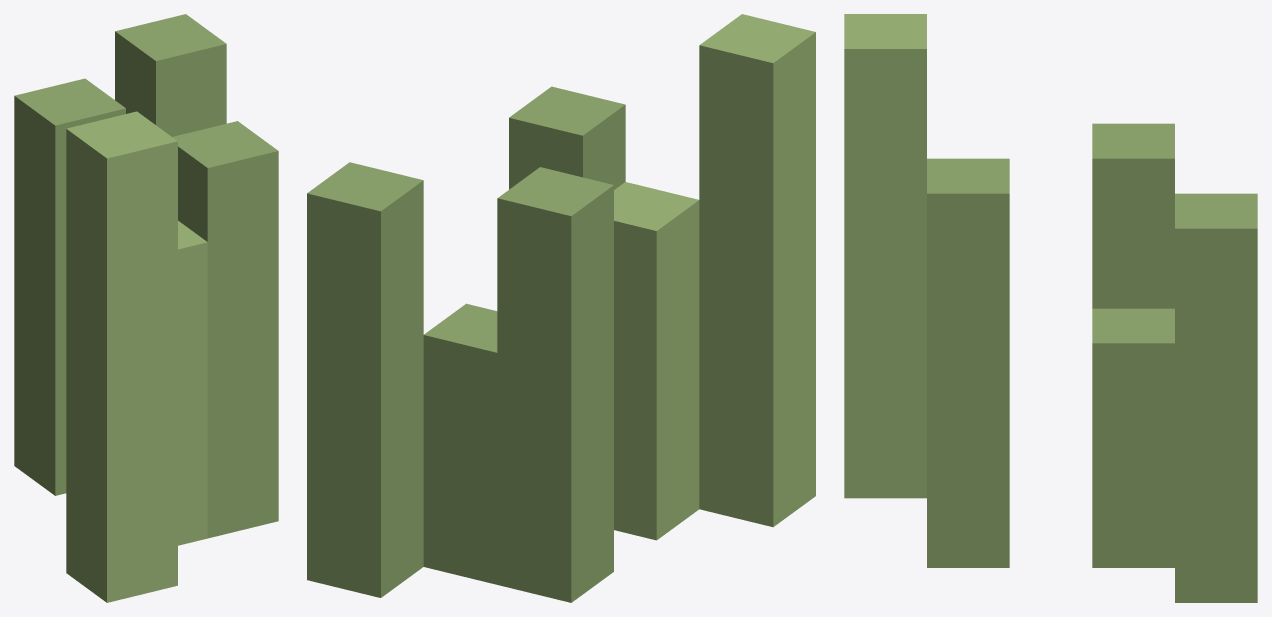
The model's file is hierba_alta_01.glb.
3 views of the same model, side by side, from view 1: azimuth 30°, elevation 25°; view 2: azimuth 150°, elevation 25°; view 3: azimuth 270°, elevation 25° (orthographic). The views are drawn at different scales.
Visible parts, largest first — view 1: hierba_alta_01; view 2: hierba_alta_01; view 3: hierba_alta_01.
Part boxes in pixels (<box>): hierba_alta_01: <box>14,14,278,602</box>; hierba_alta_01: <box>307,14,815,602</box>; hierba_alta_01: <box>844,14,1257,602</box>.
Size of the model in its own units: 0.4 by 0.6 by 0.5.
